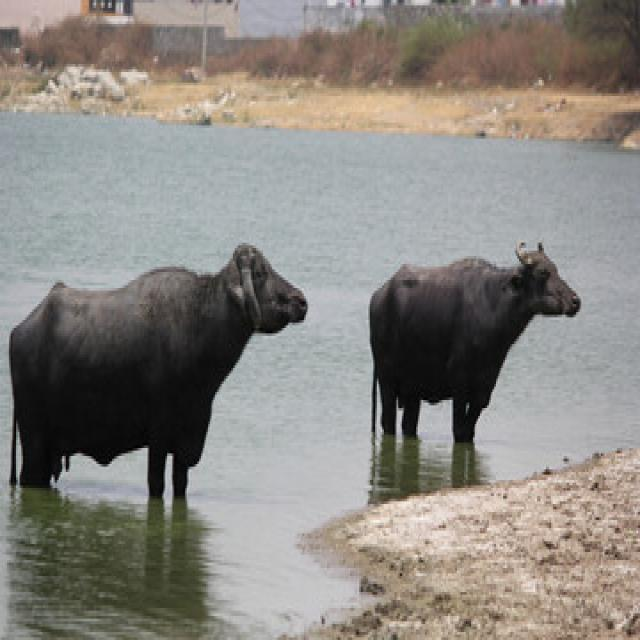Buffalo: (6, 238, 310, 495), (368, 238, 584, 442)
